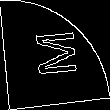M_W: (30, 29, 80, 81)
